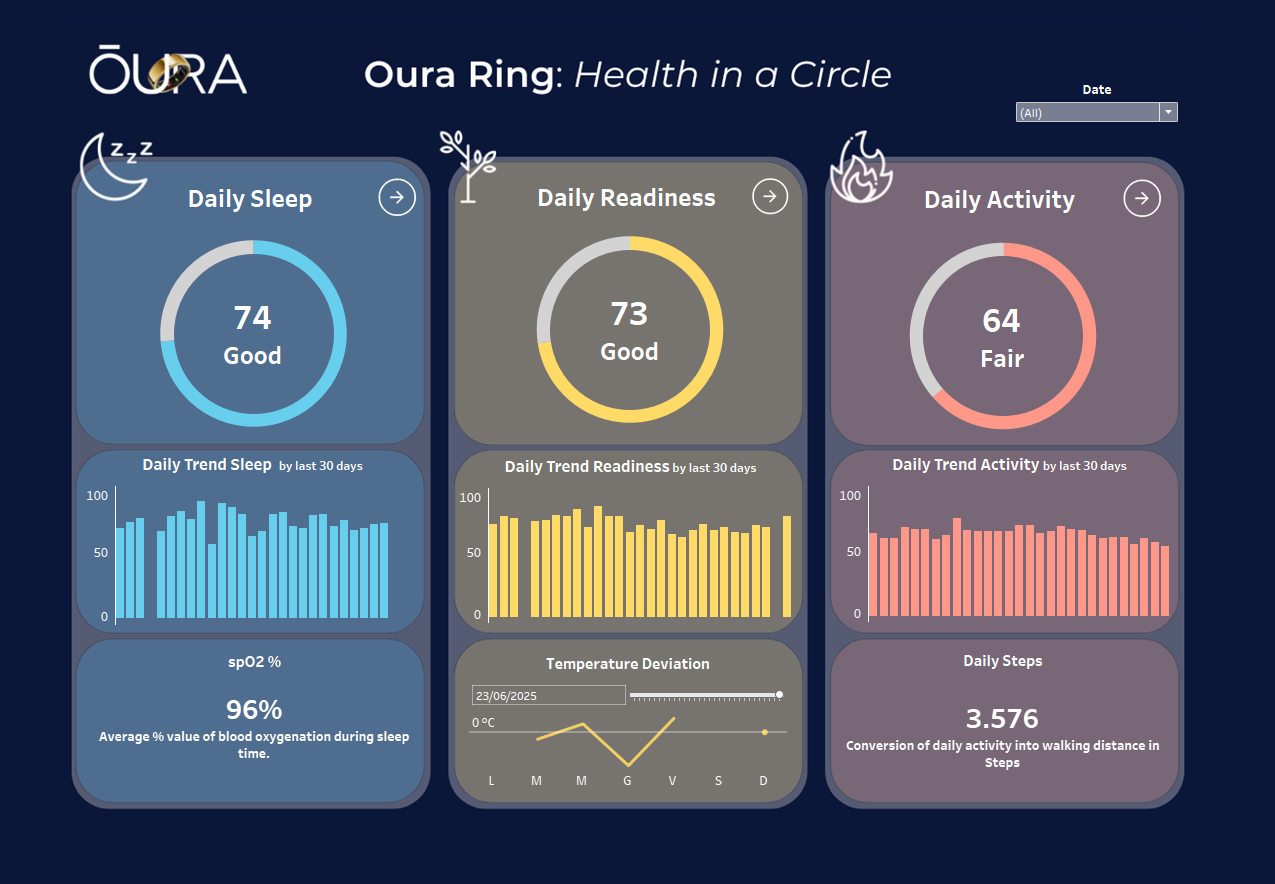

The dashboard page shown, as its layout file describes it:
{"tool":"tableau","page":{"name":"Dashboard Homepage","canvas":[1169,827],"ordinal":1},"visuals":[{"type":"image","param":"Image/template dashboard oura (3).png","box":[8,8,1153,811]},{"type":"filter","title":"daily activity V.2","param":"[federated.0m2kqbg18w5j591cr0j350qrv2qg].[none:Date:ok]","box":[969,76,168,52]},{"type":"blank","box":[37,164,51,58]},{"type":"text","box":[88,164,236,58]},{"type":"dashboard-object","box":[324,164,58,58]},{"type":"blank","box":[417,164,51,56]},{"type":"text","box":[468,164,229,56]},{"type":"dashboard-object","box":[697,164,58,56]},{"type":"blank","box":[791,164,51,61]},{"type":"text","box":[842,164,227,61]},{"type":"dashboard-object","box":[1069,164,58,61]},{"type":"worksheet","title":"daily readiness V.2","mark":"Pie","rows":["Calculation_416582990493609985","Calculation_416582990493622275"],"box":[417,220,338,211]},{"type":"worksheet","title":"daily sleep card V.2","mark":"Pie","rows":["Calculation_416582990493609985","Calculation_416582990493622275"],"box":[37,222,345,215]},{"type":"worksheet","title":"daily activity V.2","mark":"Pie","rows":["Calculation_416582990493609985","Calculation_416582990493622275"],"box":[791,225,336,214]},{"type":"worksheet","title":"Daily Trend daily sleep","mark":"Bar","rows":["Calculation_5073867954892283905"],"cols":["Date"],"box":[41,445,335,176]},{"type":"worksheet","title":"Daily Trend daily activity","mark":"Bar","rows":["cc_daily_sleep (copy)_5073867954894159874"],"cols":["Date"],"box":[794,445,343,173]},{"type":"worksheet","title":"Daily Trend daily readiness","mark":"Bar","rows":["cc_daily_sleep (copy)_5073867954894467075"],"cols":["Date"],"box":[414,447,345,172]},{"type":"text","box":[792,642,334,29]},{"type":"text","box":[47,643,327,29]},{"type":"text","box":[421,645,326,29]},{"type":"worksheet","title":"steps card","mark":"Automatic","box":[792,671,334,122]},{"type":"worksheet","title":"spo2% card","mark":"Text","box":[47,672,327,119]},{"type":"parameter","param":"[Parameters].[Parameter 2]","box":[421,674,326,32]},{"type":"worksheet","title":"temperature deviation","mark":"Automatic","rows":["Calculation_1527846198916907008"],"cols":["Date"],"box":[421,706,326,83]}]}

Visuals, with their boxes in screenshot pixels (x1, y1, x2, y2), scaled from the page's 1169x827 canvas onto the 1275x884 screenshot:
image: bbox=[9, 9, 1266, 875]
"daily activity V.2" filter: bbox=[1057, 81, 1240, 137]
blank: bbox=[40, 175, 96, 237]
text: bbox=[96, 175, 353, 237]
dashboard-object: bbox=[353, 175, 417, 237]
blank: bbox=[455, 175, 510, 235]
text: bbox=[510, 175, 760, 235]
dashboard-object: bbox=[760, 175, 823, 235]
blank: bbox=[863, 175, 918, 241]
text: bbox=[918, 175, 1166, 241]
dashboard-object: bbox=[1166, 175, 1229, 241]
"daily readiness V.2" worksheet (Pie marks): bbox=[455, 235, 823, 461]
"daily sleep card V.2" worksheet (Pie marks): bbox=[40, 237, 417, 467]
"daily activity V.2" worksheet (Pie marks): bbox=[863, 241, 1229, 469]
"Daily Trend daily sleep" worksheet (Bar marks): bbox=[45, 476, 410, 664]
"Daily Trend daily activity" worksheet (Bar marks): bbox=[866, 476, 1240, 661]
"Daily Trend daily readiness" worksheet (Bar marks): bbox=[452, 478, 828, 662]
text: bbox=[864, 686, 1228, 717]
text: bbox=[51, 687, 408, 718]
text: bbox=[459, 689, 815, 720]
"steps card" worksheet: bbox=[864, 717, 1228, 848]
"spo2% card" worksheet (Text marks): bbox=[51, 718, 408, 846]
parameter: bbox=[459, 720, 815, 755]
"temperature deviation" worksheet: bbox=[459, 755, 815, 843]
